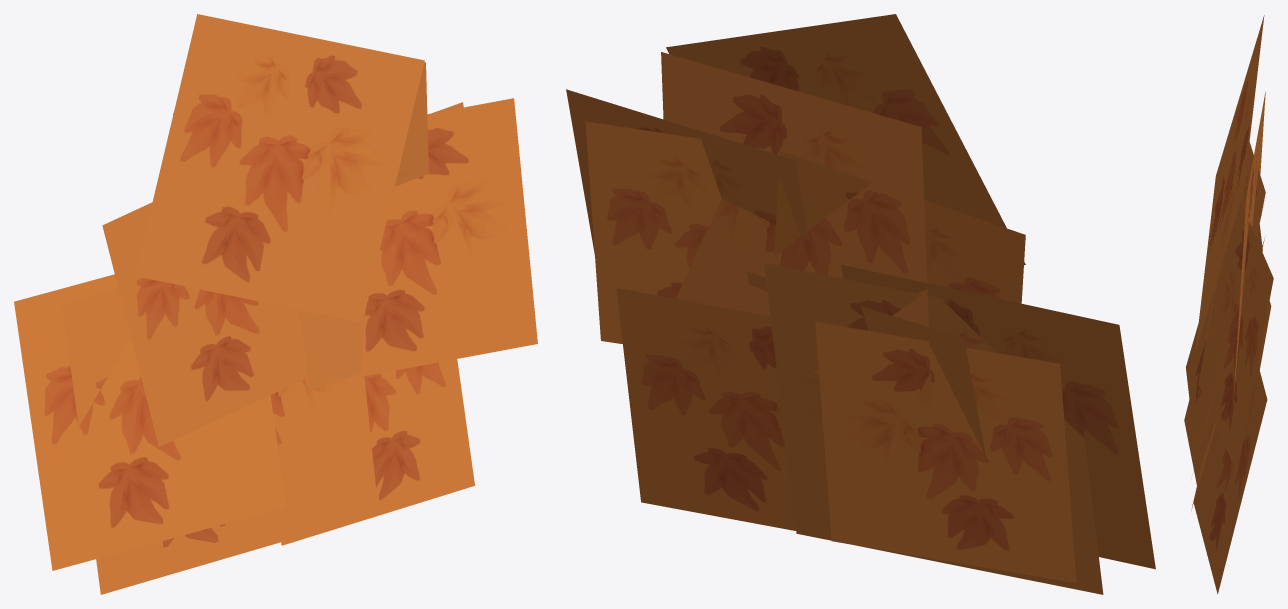
File: SM_Env_Vines_04.fbx
3 renders of one model, left to right at view 1: azimuth 30°, elevation 25°; view 2: azimuth 150°, elevation 25°; view 3: azimuth 270°, elevation 25°, orthographic. The views are drawn at different scales.
Visible parts, largest first — view 1: SM_Env_Vines_04_LOD0; view 2: SM_Env_Vines_04_LOD0; view 3: SM_Env_Vines_04_LOD0.
Boxes of the visible parts, left/top/right/bottom form: SM_Env_Vines_04_LOD0: left=14, top=14, right=537, bottom=594; SM_Env_Vines_04_LOD0: left=566, top=14, right=1155, bottom=594; SM_Env_Vines_04_LOD0: left=1184, top=15, right=1273, bottom=594.
Size of what is drawn, in the model's own units: 357 by 354 by 61.28.
